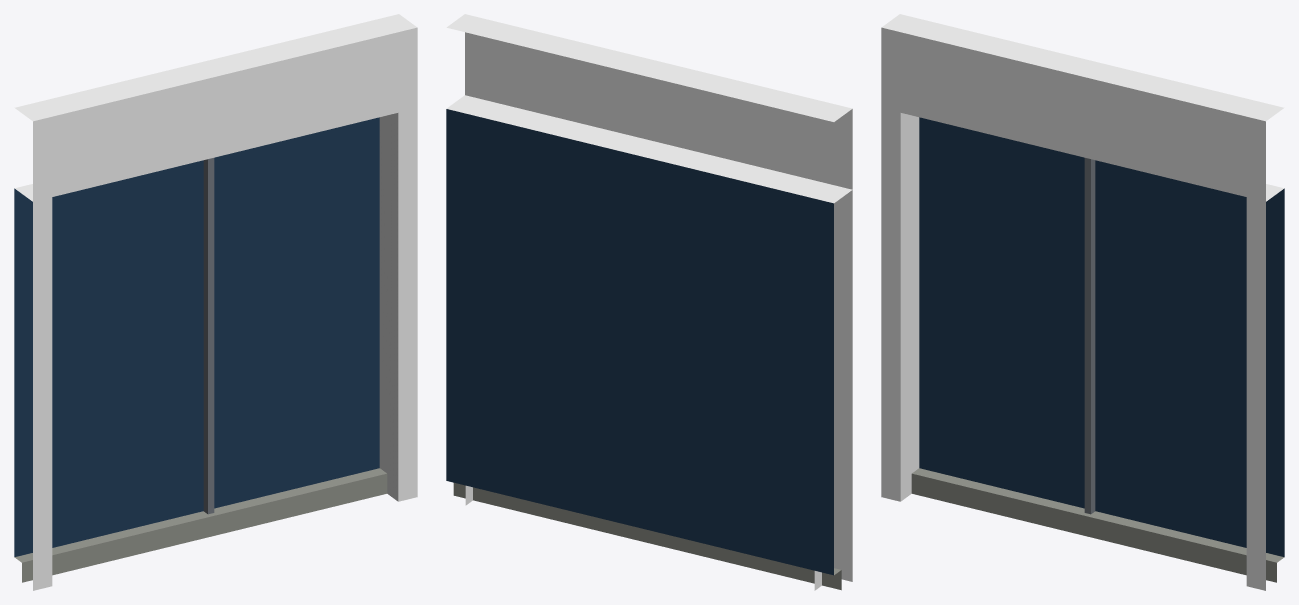
3 renders of one model, left to right at view 1: azimuth 30°, elevation 25°; view 2: azimuth 150°, elevation 25°; view 3: azimuth 330°, elevation 25°, orthographic.
Parts seen in each view (by area): view 1: a2002/400/base-w1; view 2: a2002/400/base-w1; view 3: a2002/400/base-w1.
Boxes of the visible parts, x1=… form: a2002/400/base-w1: x1=14, y1=14, x2=417, y2=590; a2002/400/base-w1: x1=446, y1=14, x2=852, y2=590; a2002/400/base-w1: x1=881, y1=14, x2=1284, y2=590.
Bounding box in the file's own units: 3 × 3.5 × 0.25.
